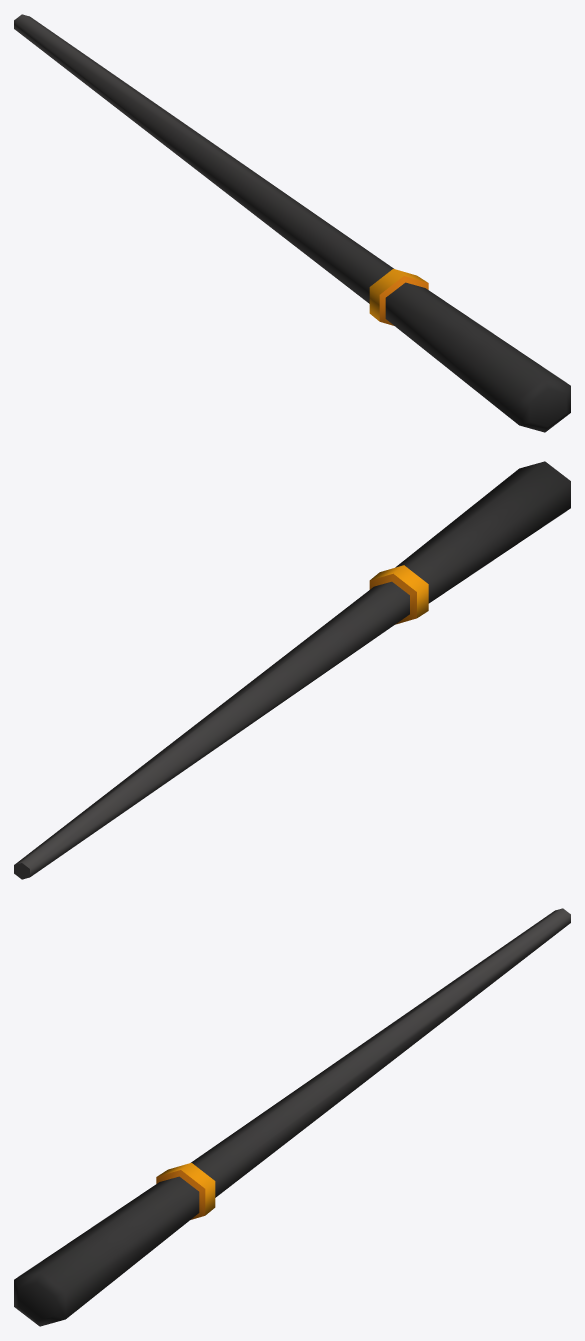
The model's file is Wand2.fbx.
The picture shows the model from 3 angles, top to bottom: view 1: azimuth 30°, elevation 25°; view 2: azimuth 150°, elevation 25°; view 3: azimuth 330°, elevation 25°; orthographic projection.
Parts seen in each view (by area): view 1: Wand2; view 2: Wand2; view 3: Wand2.
Boxes of the visible parts, x1=… form: Wand2: x1=14, y1=14, x2=570, y2=432; Wand2: x1=14, y1=461, x2=570, y2=879; Wand2: x1=14, y1=908, x2=570, y2=1326.
Size of the model in its own units: 2 by 2 by 35.21.
